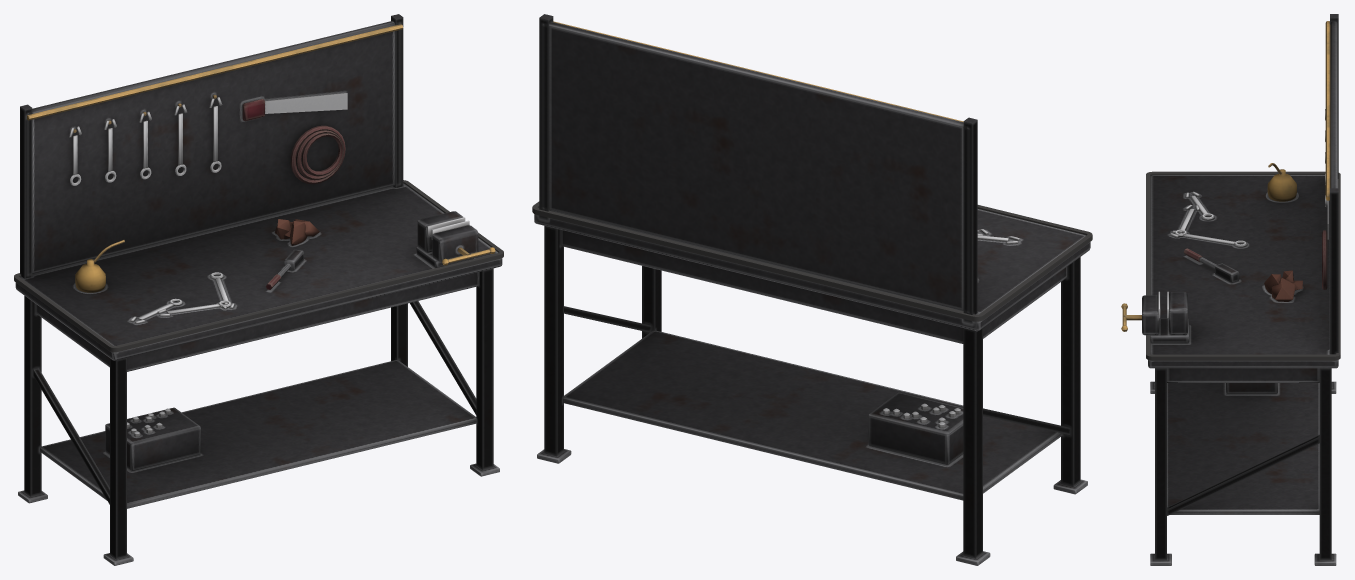
The model's file is Workbench.fbx.
3 renders of one model, left to right at view 1: azimuth 30°, elevation 25°; view 2: azimuth 150°, elevation 25°; view 3: azimuth 270°, elevation 25°, orthographic. The views are drawn at different scales.
Parts seen in each view (by area): view 1: Workbench; view 2: Workbench; view 3: Workbench.
Part boxes in pixels (x1,y1,x2,y2): Workbench: [14, 14, 503, 565]; Workbench: [532, 14, 1092, 565]; Workbench: [1121, 14, 1340, 565].
Size of the model in its own units: 505 by 475 by 253.
